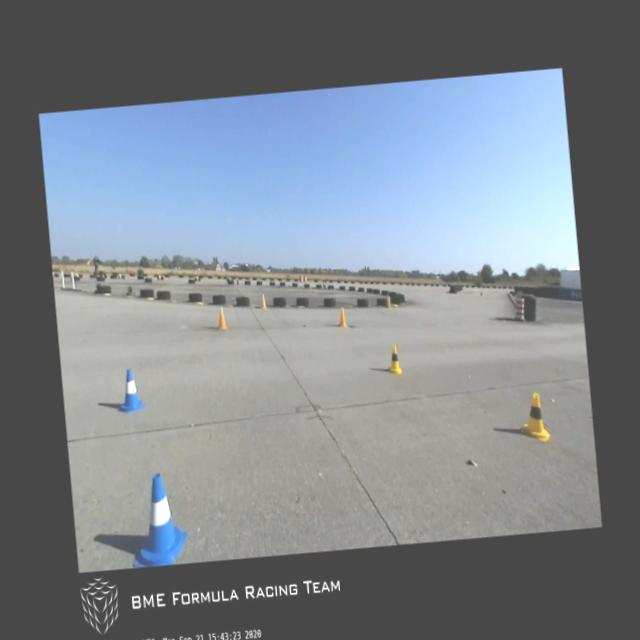blue_cone: (124, 471, 190, 566), (115, 367, 144, 412)
unknown_cone: (215, 306, 228, 330), (337, 306, 347, 327), (259, 294, 266, 310)
yellow_cone: (518, 391, 550, 444), (384, 344, 402, 376)
